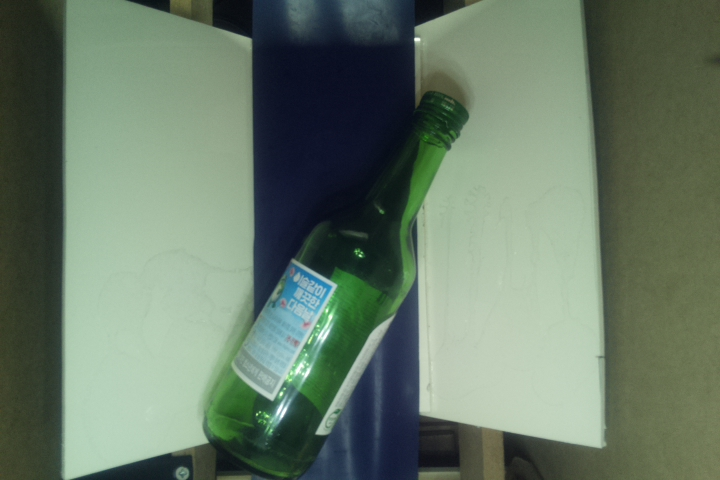soju: (200, 87, 470, 480)
